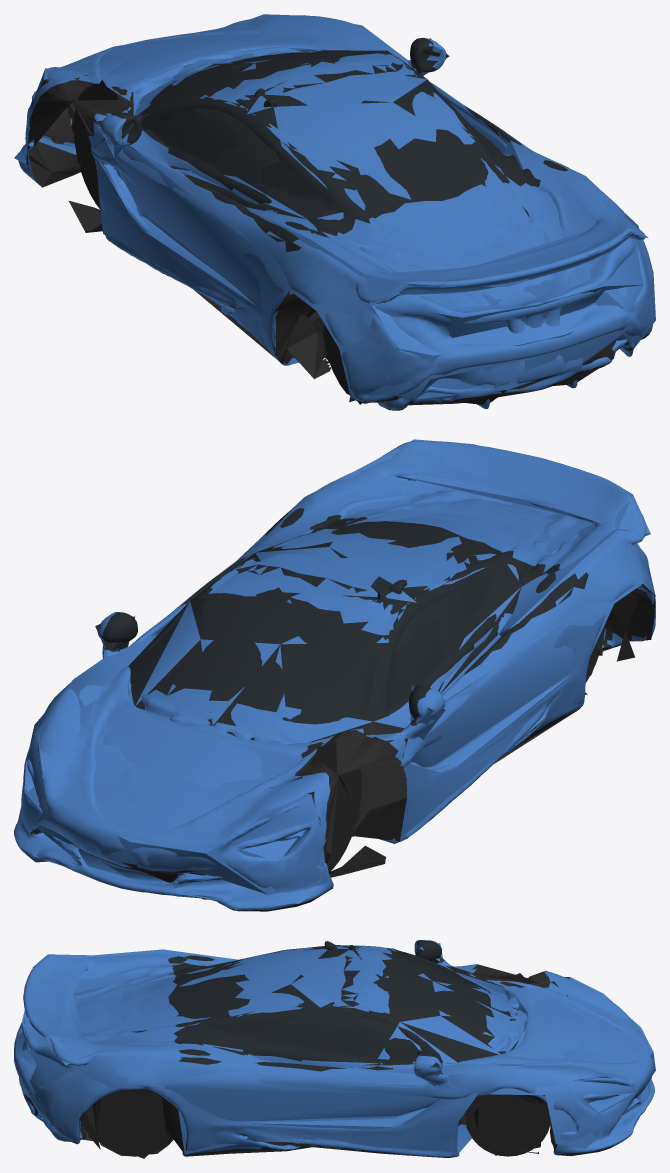
File: mclaren-765lt-spider.glb
3 views of the same model, one above another, from view 1: azimuth 30°, elevation 25°; view 2: azimuth 150°, elevation 25°; view 3: azimuth 270°, elevation 25° (orthographic). The views are drawn at different scales.
Parts seen in each view (by area): view 1: body, far; view 2: body, far; view 3: body, far.
Boxes of the visible parts, x1,y1,x2,y2 form: body: [18, 15, 653, 410]; far: [14, 14, 655, 404]; body: [14, 440, 655, 911]; far: [17, 439, 655, 903]; body: [14, 940, 654, 1157]; far: [15, 943, 655, 1158].
Size of the model in its own units: 2.13 by 1.2 by 4.61.
